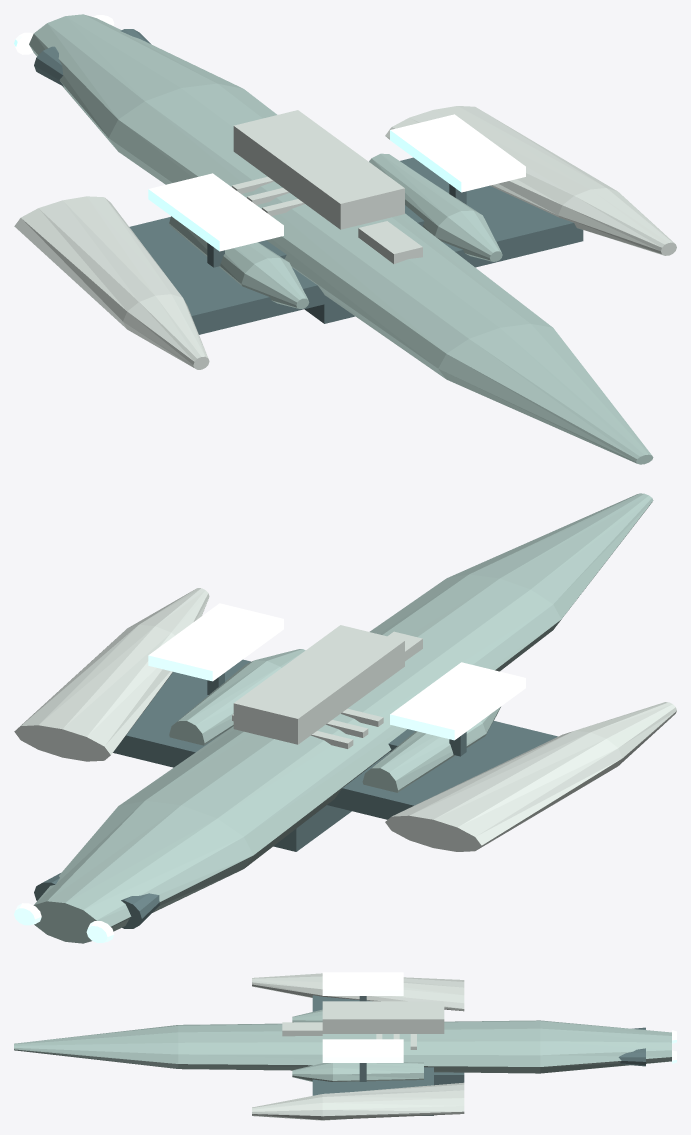
3 renders of one model, top to bottom at view 1: azimuth 30°, elevation 25°; view 2: azimuth 150°, elevation 25°; view 3: azimuth 270°, elevation 25°, orthographic. The views are drawn at different scales.
Size of the model in its own units: 7.38 by 1.64 by 14.93.
